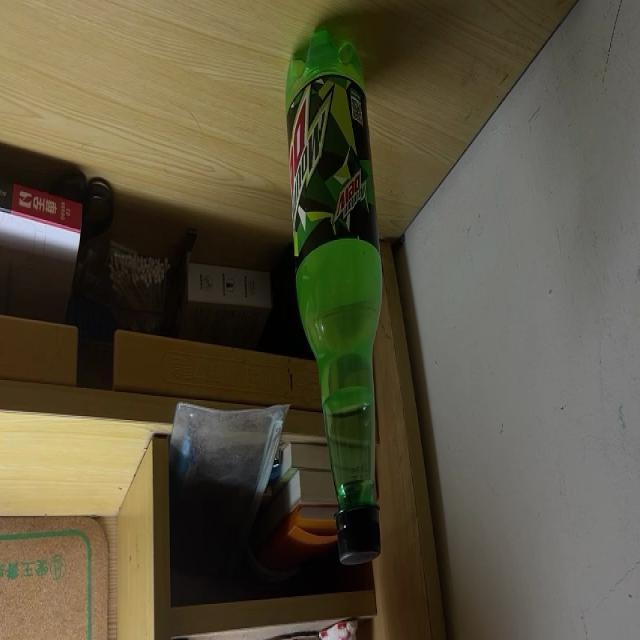Mountain-Dew: (283, 27, 385, 566)
